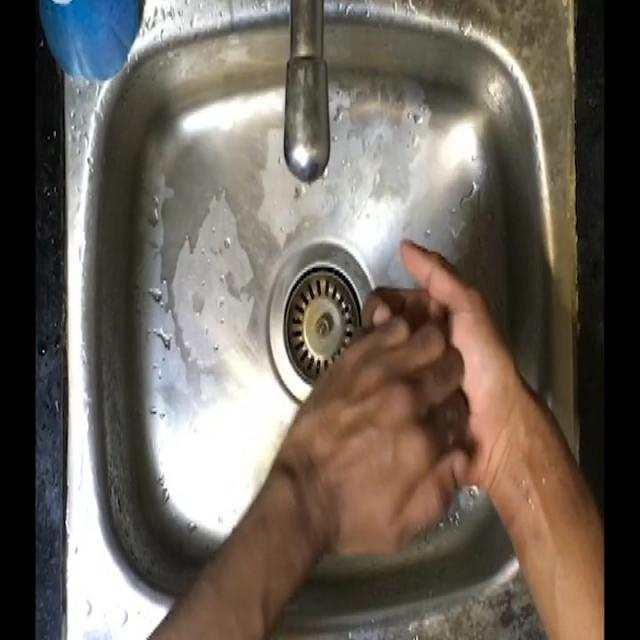step_4: (298, 245, 512, 503)
